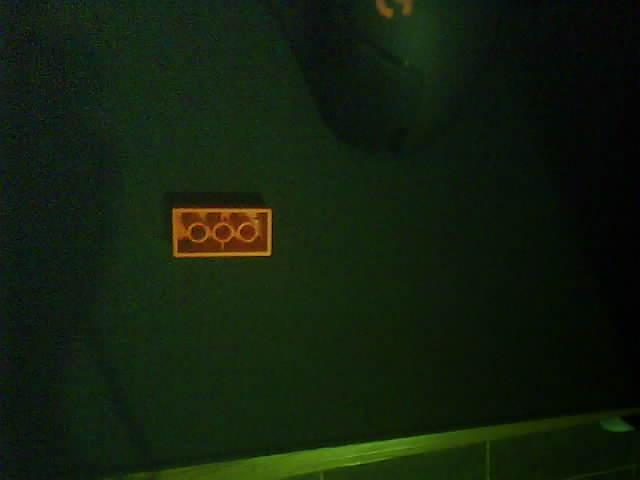lego: (170, 206, 274, 259)
